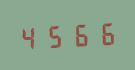five: (42, 21, 65, 50)
four: (18, 22, 41, 51)
six: (90, 18, 113, 47), (66, 20, 89, 48)
